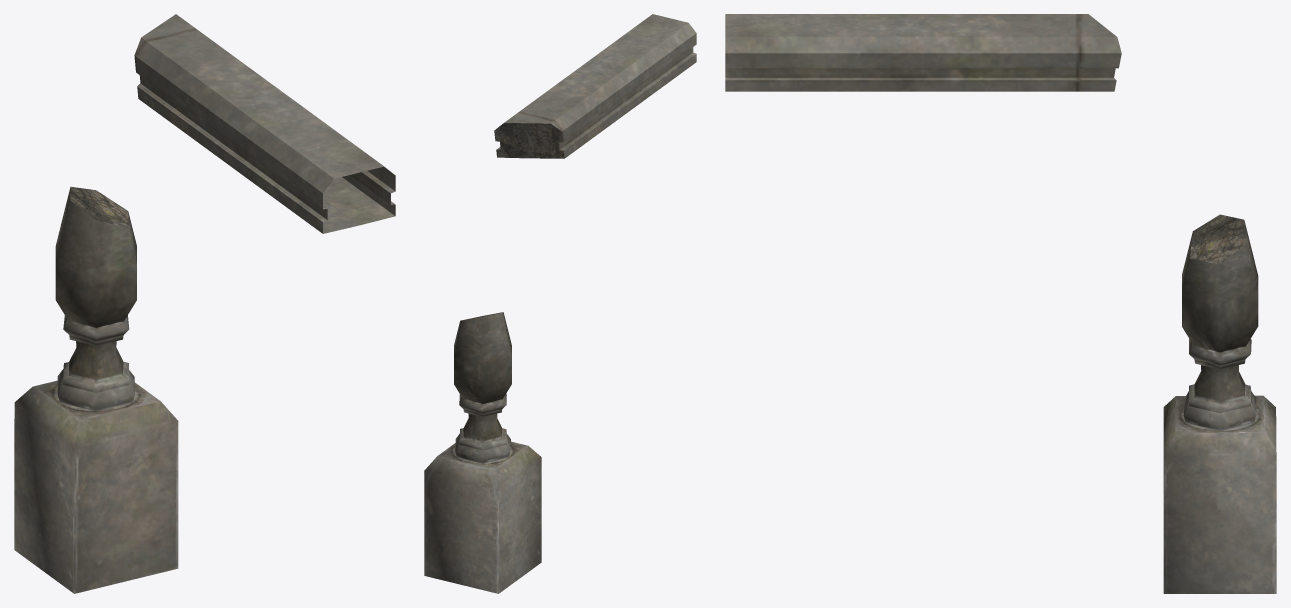
The model's file is RailingDamage02_1.fbx.
The picture shows the model from 3 angles, left to right: view 1: azimuth 30°, elevation 25°; view 2: azimuth 150°, elevation 25°; view 3: azimuth 270°, elevation 25°; orthographic projection. The views are drawn at different scales.
Visible parts, largest first — view 1: RailingDamage02_1; view 2: RailingDamage02_1; view 3: RailingDamage02_1.
Part boxes in pixels (x1=…): RailingDamage02_1: x1=14, y1=14, x2=395, y2=593; RailingDamage02_1: x1=424, y1=14, x2=696, y2=593; RailingDamage02_1: x1=725, y1=14, x2=1276, y2=593.
Size of the model in its own units: 20.04 by 106 by 97.5.
